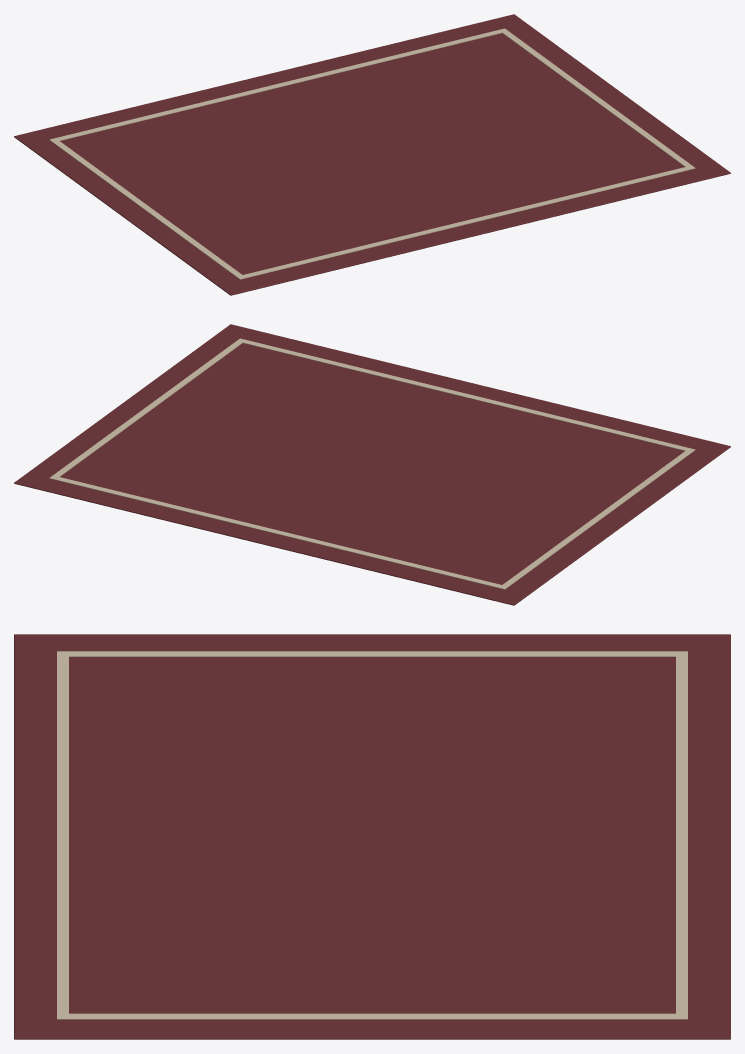
File: prop_rug_dining.glb
3 renders of one model, top to bottom at view 1: azimuth 30°, elevation 25°; view 2: azimuth 150°, elevation 25°; view 3: azimuth 270°, elevation 25°, orthographic. The views are drawn at different scales.
Parts seen in each view (by area): view 1: Rug; view 2: Rug; view 3: Rug.
Boxes of the visible parts, x1,y1,x2,y2 form: Rug: (14,14,730,295); Rug: (14,324,730,605); Rug: (14,634,730,1039).
Size of what is drawn, in the model's own units: 4 by 0.014 by 3.
